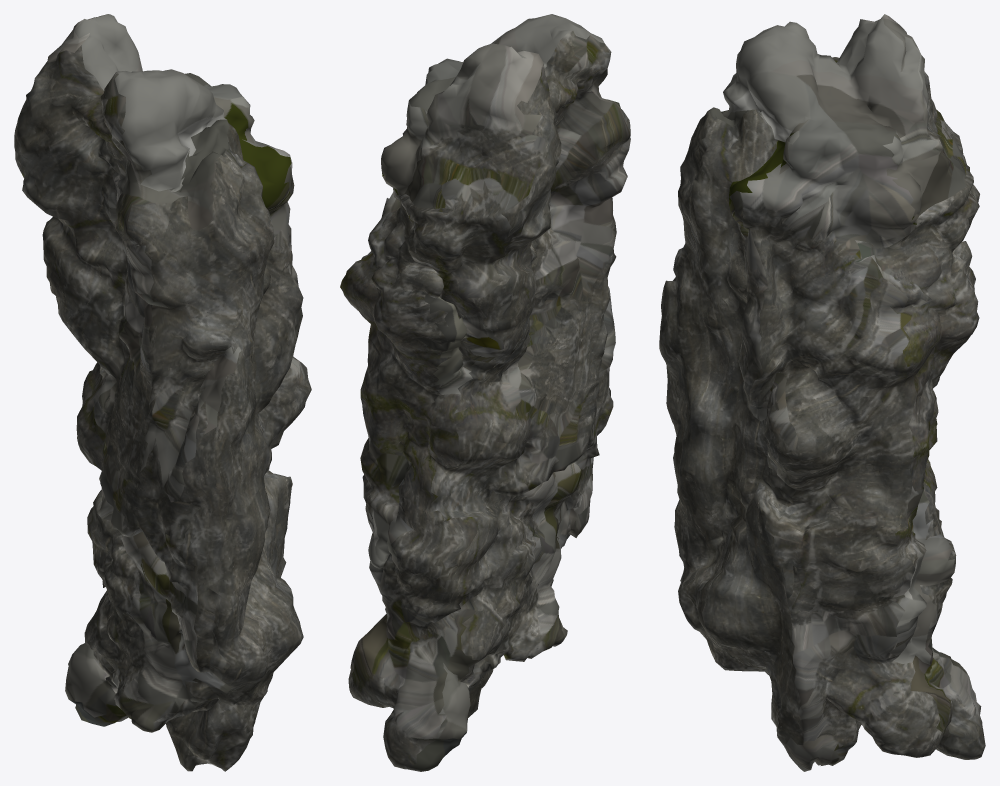
File: SM_Rock_B.fbx
3 views of the same model, side by side, from view 1: azimuth 30°, elevation 25°; view 2: azimuth 150°, elevation 25°; view 3: azimuth 270°, elevation 25° (orthographic). The views are drawn at different scales.
Parts seen in each view (by area): view 1: SM_Rock_B_LOD0; view 2: SM_Rock_B_LOD0; view 3: SM_Rock_B_LOD0.
Part boxes in pixels (left/top/right/bottom): SM_Rock_B_LOD0: left=14, top=14, right=311, bottom=771; SM_Rock_B_LOD0: left=340, top=14, right=630, bottom=771; SM_Rock_B_LOD0: left=659, top=14, right=985, bottom=771.
Size of the model in its own units: 1153 by 1457 by 3531.
